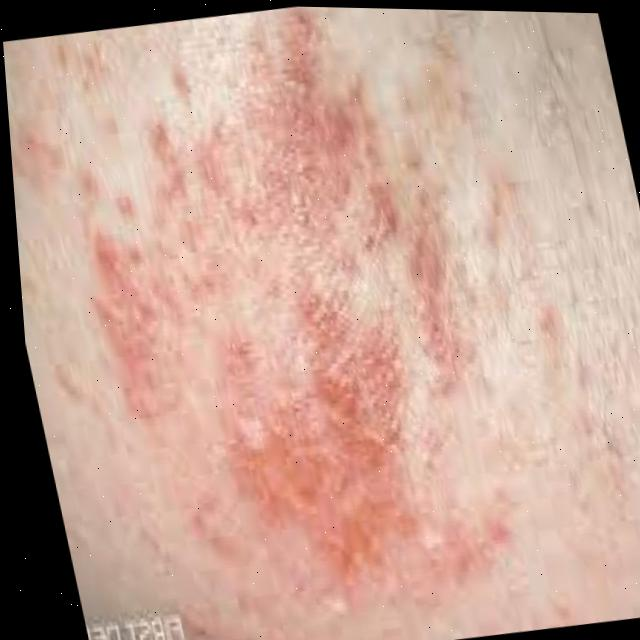Eczema: (69, 2, 482, 637)
